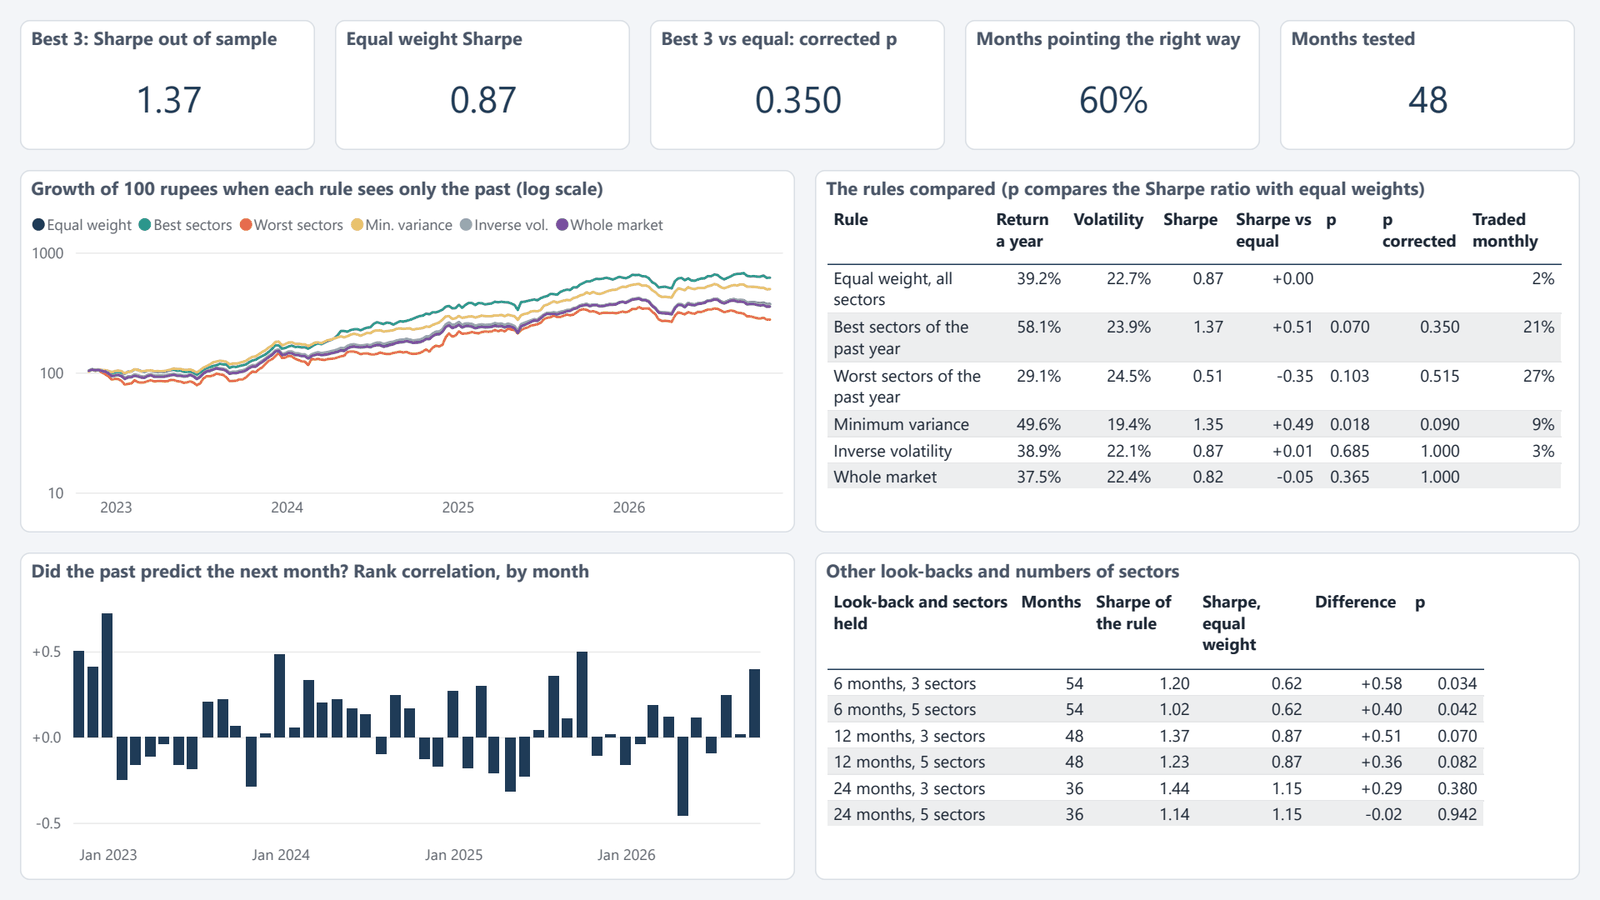

The page's visual inventory and layout, read from the dashboard file:
{"tool":"powerbi","page":{"name":"Out-of-sample test","canvas":[1280,720],"ordinal":7},"visuals":[{"type":"card","title":"Best 3: Sharpe out of sample","fields":{"Values":["_Measures.Winners Sharpe"]},"box":[16,16,236,104],"z":0},{"type":"card","title":"Equal weight Sharpe","fields":{"Values":["_Measures.Equal Weight Sharpe"]},"box":[268,16,236,104],"z":1000},{"type":"card","title":"Best 3 vs equal: corrected p","fields":{"Values":["_Measures.Winners p Corrected"]},"box":[520,16,236,104],"z":2000},{"type":"card","title":"Months pointing the right way","fields":{"Values":["_Measures.Months Pointing the Right Way"]},"box":[772,16,236,104],"z":3000},{"type":"card","title":"Months tested","fields":{"Values":["_Measures.Months Tested"]},"box":[1024,16,236,104],"z":4000},{"type":"lineChart","title":"Growth of 100 rupees when each rule sees only the past (log scale)","fields":{"Category":["strategy_levels.date"],"Y":["_Measures.Strategy Level"],"Series":["strategy_levels.strategy_short"]},"box":[16,136,620,290],"z":5000},{"type":"tableEx","title":"The rules compared (p compares the Sharpe ratio with equal weights)","fields":{"Values":["strategies.strategy","strategies.cagr","strategies.volatility","strategies.sharpe","strategies.sharpe_vs_equal","strategies.vs_equal_p","strategies.vs_equal_p_adjusted","strategies.turnover"]},"box":[652,136,612,290],"z":6000},{"type":"clusteredColumnChart","title":"Did the past predict the next month? Rank correlation, by month","fields":{"Category":["info_coeff.decision_date"],"Y":["_Measures.Information Coefficient"]},"box":[16,442,620,262],"z":7000},{"type":"tableEx","title":"Other look-backs and numbers of sectors","fields":{"Values":["sensitivity.setting","sensitivity.months","sensitivity.sharpe_rule","sensitivity.sharpe_equal_weight","sensitivity.difference","sensitivity.p"]},"box":[652,442,612,262],"z":8000}]}

Visuals, with their boxes in screenshot pixels (x1, y1, x2, y2), scaled from the page's 1280x720 canvas onto the 1600x900 screenshot:
"Best 3: Sharpe out of sample" card: box=[20, 20, 315, 150]
"Equal weight Sharpe" card: box=[335, 20, 630, 150]
"Best 3 vs equal: corrected p" card: box=[650, 20, 945, 150]
"Months pointing the right way" card: box=[965, 20, 1260, 150]
"Months tested" card: box=[1280, 20, 1575, 150]
"Growth of 100 rupees when each rule sees only the past (log scale)" lineChart: box=[20, 170, 795, 532]
"The rules compared (p compares the Sharpe ratio with equal weights)" tableEx: box=[815, 170, 1580, 532]
"Did the past predict the next month? Rank correlation, by month" clusteredColumnChart: box=[20, 552, 795, 880]
"Other look-backs and numbers of sectors" tableEx: box=[815, 552, 1580, 880]
